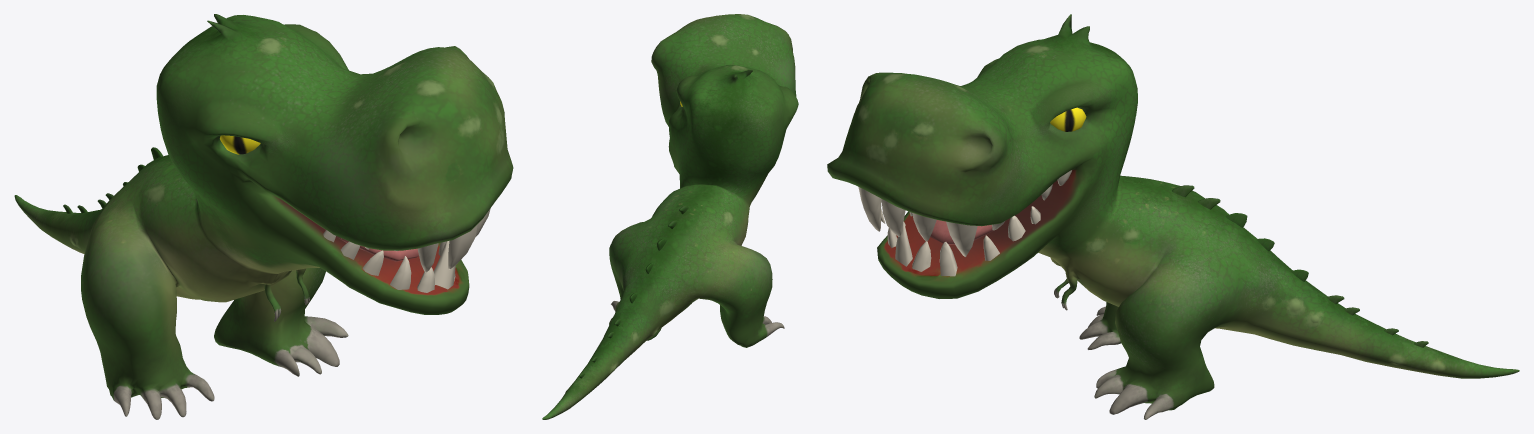
The model's file is dinosaur.glb.
3 views of the same model, side by side, from view 1: azimuth 30°, elevation 25°; view 2: azimuth 150°, elevation 25°; view 3: azimuth 270°, elevation 25° (orthographic). The views are drawn at different scales.
Parts seen in each view (by area): view 1: node_id48_0; view 2: node_id48_0; view 3: node_id48_0.
Boxes of the visible parts, <box> form: node_id48_0: <box>14,14,513,419</box>; node_id48_0: <box>542,14,798,419</box>; node_id48_0: <box>827,14,1519,419</box>.
Size of the model in its own units: 6.04 by 8.19 by 15.27.
Materials: 1 (1 with a texture image).
